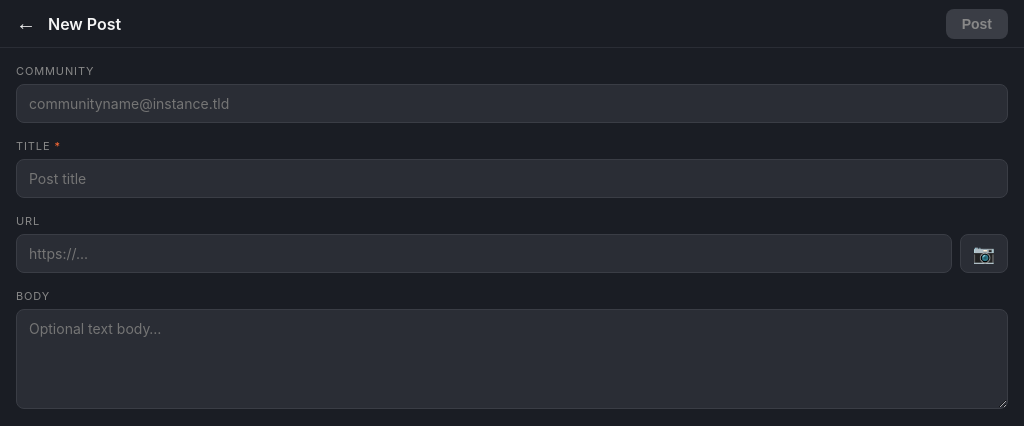
it: CreatePostPage › enables Post button when title and community are both filled
Type "programming@lemmy.world" into the field with placeholder "communityname@instance.tld" at coordinates (512, 104), box [16,84,1008,123]
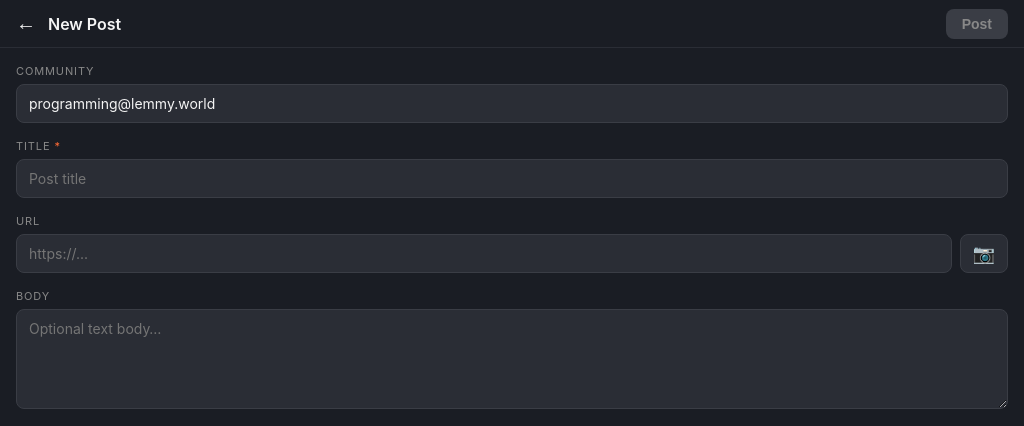
Type "Hello world" into the field with placeholder "Post title" at coordinates (512, 178), box [16,159,1008,198]
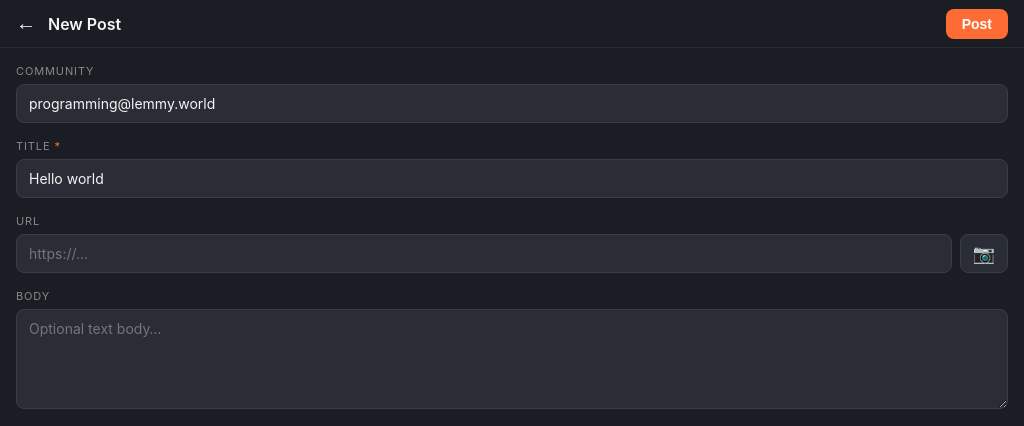
Result: the button "Post" is enabled at [946,8,1008,38]
